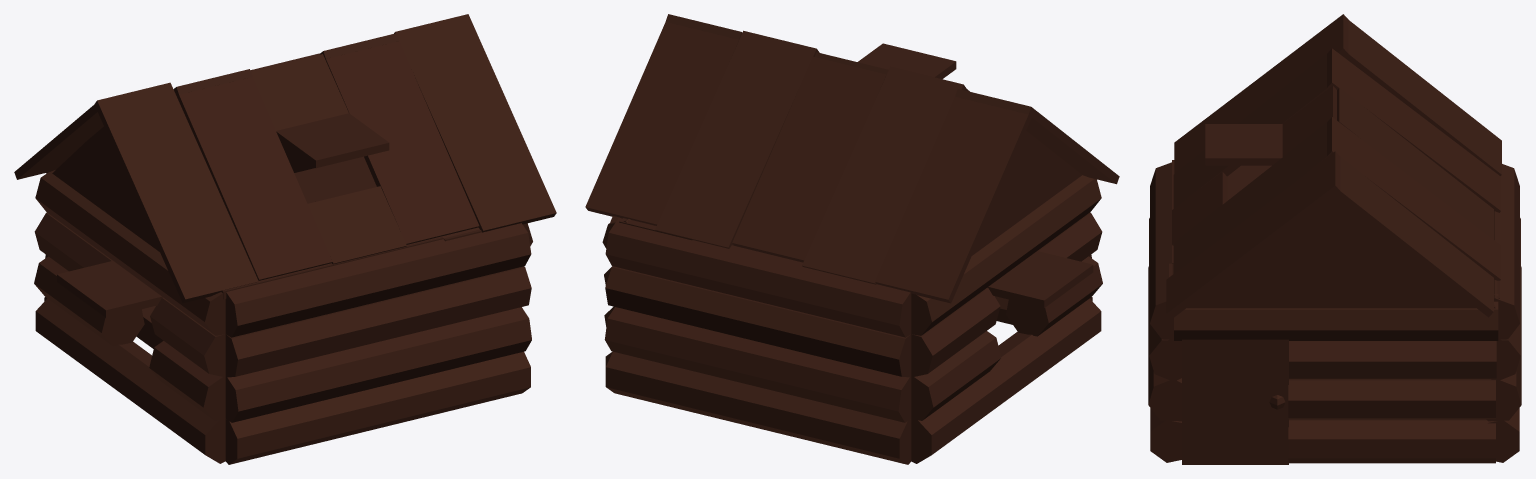
The model's file is doomstone_cabin-KFx7ngHp.glb.
3 views of the same model, side by side, from view 1: azimuth 30°, elevation 25°; view 2: azimuth 150°, elevation 25°; view 3: azimuth 270°, elevation 25° (orthographic). The views are drawn at different scales.
Visible parts, largest first — view 1: Cube.008, Cube.007, Cube.005, Cube.002, Cylinder.003, Cylinder.001, Cylinder, Cylinder.002, Cylinder.015, Cylinder.012, Cube.010, Cube (+12 smaller); view 2: Cube.003, Cube.009, Cube.004, Cube.001, Cube.006, Cylinder.004, Cylinder.006, Cylinder.007, Cylinder.005, Cylinder.015, Cylinder.012, Cube.013 (+8 smaller); view 3: Cube.016, Cube.012, Cylinder.008, Cylinder.011, Cylinder.010, Cylinder.009, Cube.007, Cube.006, Cube.004, Cube.003, Cube.009, Cube.001 (+16 smaller).
Boxes of the visible parts, x1,y1,x2,y2 form: Cube.008: (94, 82, 258, 302); Cube.007: (394, 14, 556, 232); Cube.005: (177, 77, 332, 280); Cube.002: (325, 41, 479, 244); Cylinder.003: (225, 223, 531, 337); Cylinder.001: (225, 307, 531, 422); Cylinder: (225, 351, 530, 464); Cylinder.002: (225, 266, 531, 377); Cylinder.015: (35, 298, 225, 463); Cylinder.012: (35, 170, 227, 335); Cube.010: (307, 186, 406, 264); Cube: (251, 54, 348, 130); Cube.003: (655, 30, 819, 248); Cube.009: (875, 96, 1031, 303); Cube.004: (802, 66, 966, 284); Cube.001: (732, 56, 886, 262); Cube.006: (585, 22, 738, 225); Cylinder.004: (605, 217, 911, 337); Cylinder.006: (604, 307, 911, 422); Cylinder.007: (605, 351, 911, 464); Cylinder.005: (605, 266, 911, 377); Cylinder.015: (911, 298, 1101, 463); Cylinder.012: (911, 175, 1101, 335); Cube.013: (972, 137, 1081, 255); Cube.016: (1187, 234, 1495, 308); Cube.012: (1182, 339, 1288, 464); Cylinder.008: (1174, 294, 1498, 340); Cylinder.011: (1288, 419, 1495, 463); Cylinder.010: (1288, 379, 1495, 419); Cylinder.009: (1289, 341, 1496, 379); Cube.007: (1166, 151, 1340, 319); Cube.006: (1334, 157, 1493, 317); Cube.004: (1327, 48, 1500, 212); Cube.003: (1327, 117, 1500, 280); Cube.009: (1344, 20, 1501, 175); Cube.001: (1337, 87, 1493, 239).
Bounding box in the file's own units: 7.51 × 5.61 × 6.44.
